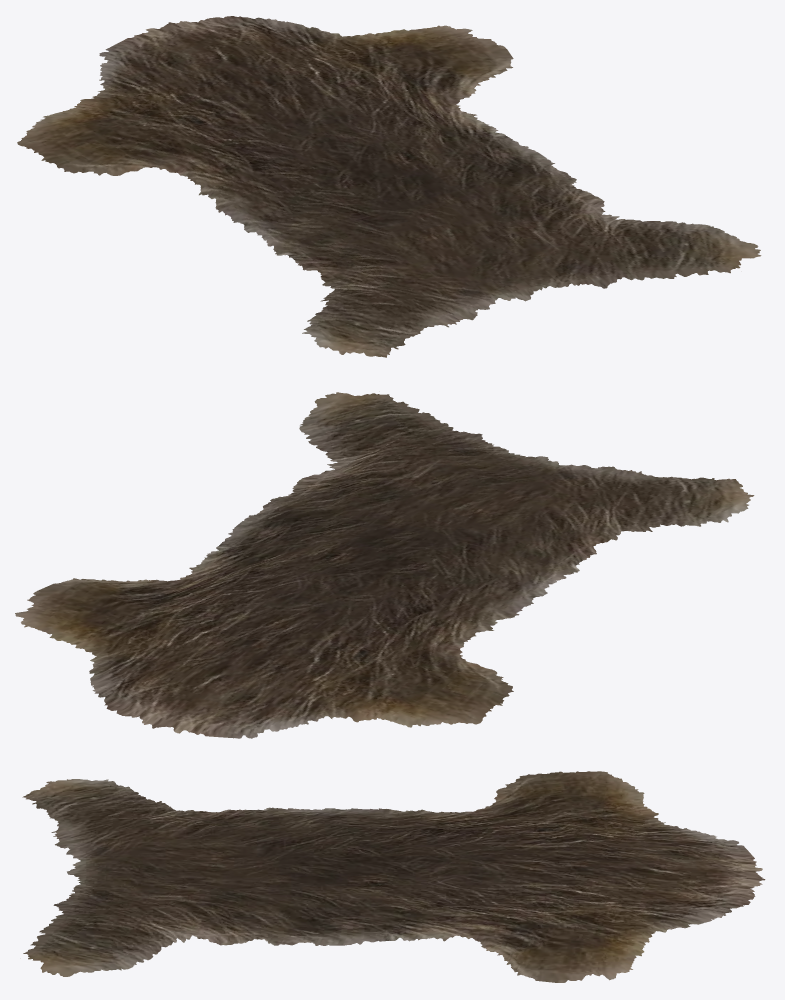
The model's file is KM_FUR_BEAR_HOUSE.glb.
3 renders of one model, top to bottom at view 1: azimuth 30°, elevation 25°; view 2: azimuth 150°, elevation 25°; view 3: azimuth 270°, elevation 25°, orthographic. The views are drawn at different scales.
Visible parts, largest first — view 1: Mesh; view 2: Mesh; view 3: Mesh.
Boxes of the visible parts, x1=… form: Mesh: x1=17, y1=16, x2=761, y2=357; Mesh: x1=15, y1=392, x2=754, y2=738; Mesh: x1=22, y1=771, x2=765, y2=982.
Bounding box in the file's own units: 3.83 × 0.1062 × 5.63.
Materials: 1 (1 with a texture image).
